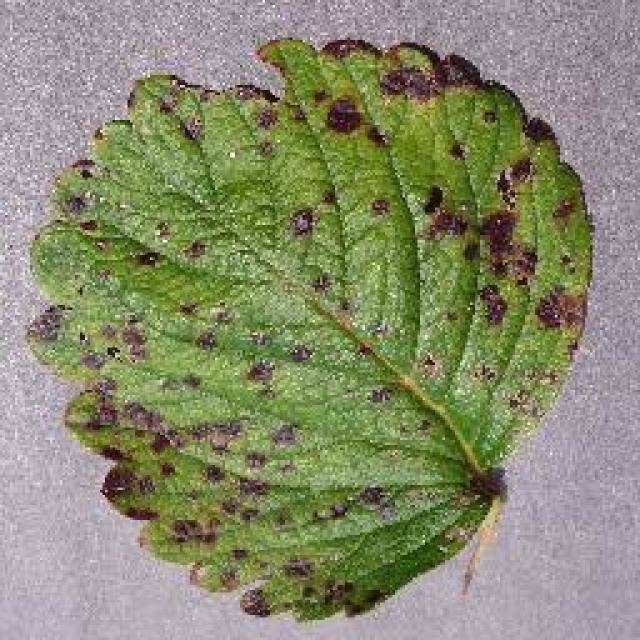Strawberry___Leaf_scorch: (8, 10, 610, 640)
